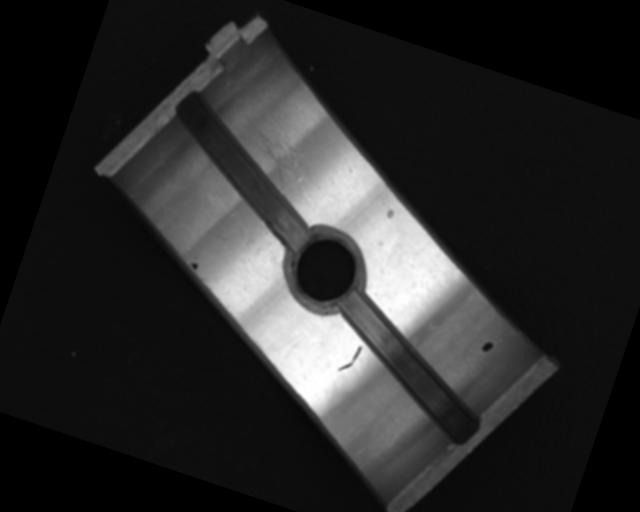blot: (479, 338, 495, 356), (188, 260, 200, 272)
bruise: (383, 207, 395, 222)
gap: (147, 89, 340, 255), (315, 287, 500, 443)
hole: (274, 221, 373, 321)
nick: (338, 340, 364, 376)
scratch: (223, 112, 316, 198)
